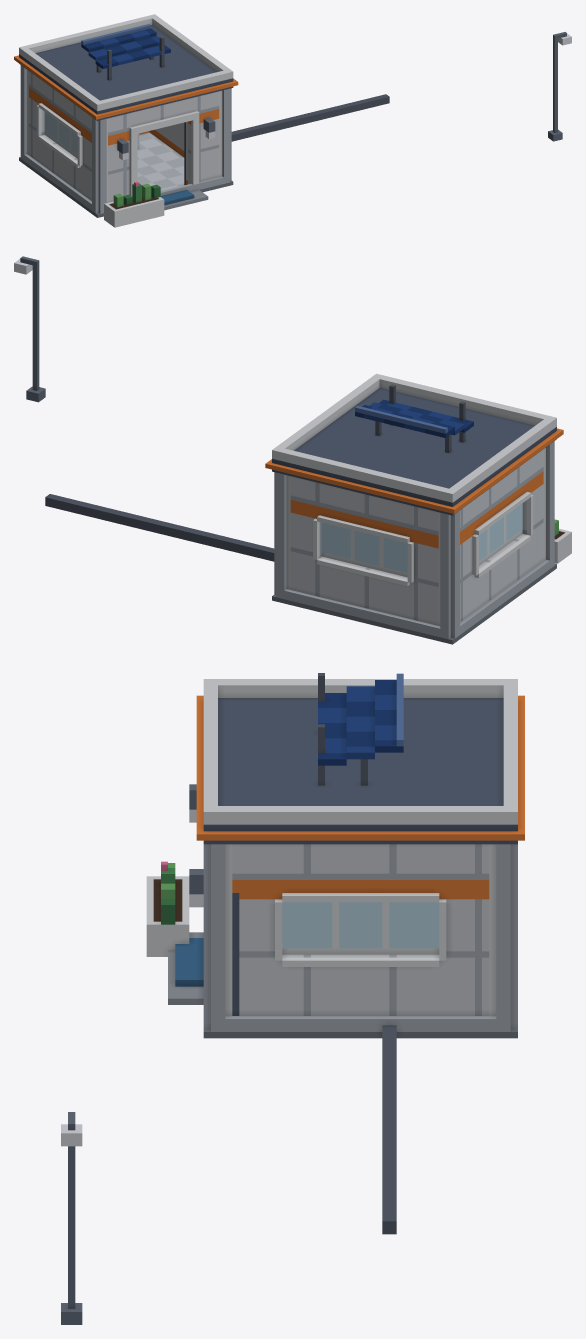
The model's file is antenna_e3_l1.glb.
3 renders of one model, top to bottom at view 1: azimuth 30°, elevation 25°; view 2: azimuth 150°, elevation 25°; view 3: azimuth 270°, elevation 25°, orthographic. The views are drawn at different scales.
Parts seen in each view (by area): view 1: CutRoof, Base, CutPZ, CutNX, CutNZ; view 2: CutRoof, Base, CutNZ, CutNX, CutPZ; view 3: CutRoof, Base, CutPX, CutPZ, CutNZ.
Part boxes in pixels (x1,y1,x2,y2): CutRoof: (14, 14, 238, 120); Base: (19, 32, 571, 227); CutPZ: (92, 88, 231, 184); CutNX: (29, 71, 91, 178); CutNZ: (20, 65, 28, 132); CutRoof: (265, 373, 563, 515); Base: (14, 256, 571, 644); CutNZ: (274, 472, 459, 600); CutNX: (460, 449, 543, 591); CutPZ: (543, 441, 554, 530); CutRoof: (196, 673, 524, 844); Base: (61, 861, 517, 1324); CutPX: (232, 844, 489, 970); CutPZ: (189, 784, 239, 973); CutNZ: (489, 844, 517, 973).
Bounding box in the file's own units: 14.3 × 4.2 × 6.5.
